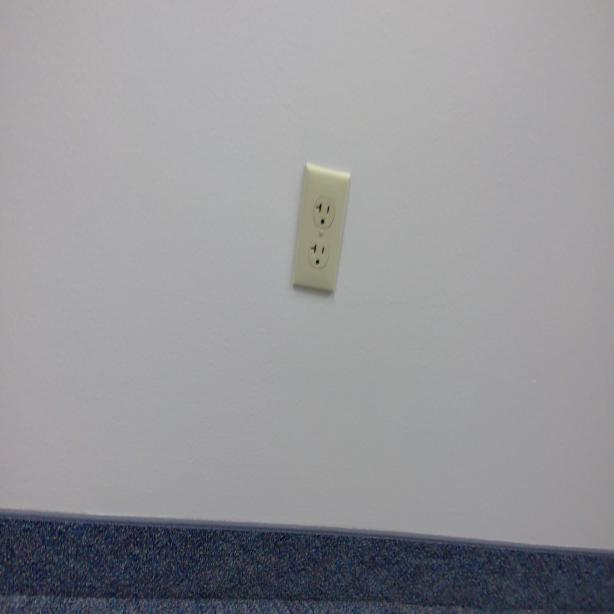typeb: (313, 195, 335, 230), (309, 238, 330, 268)
